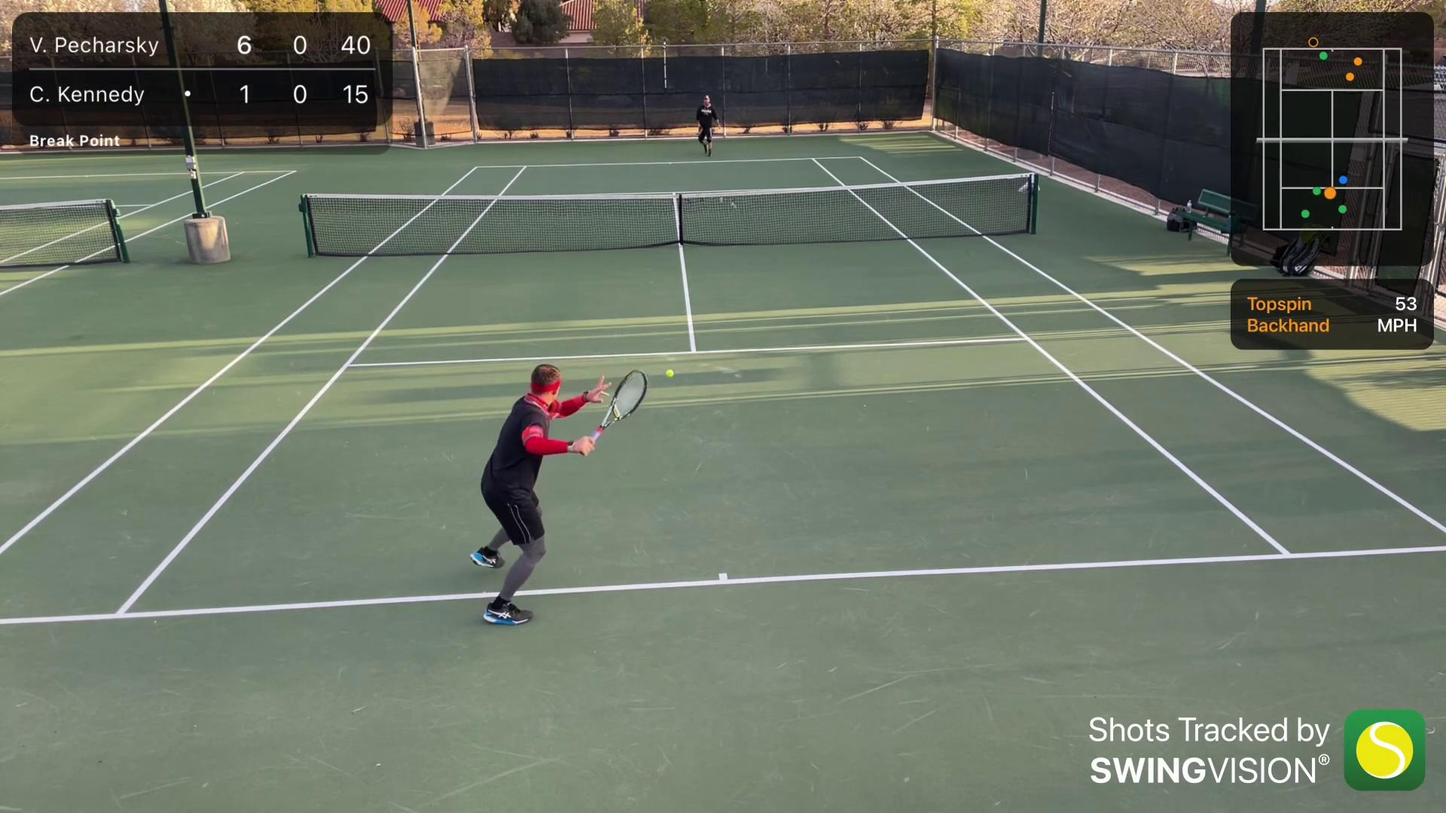ball: (664, 368, 675, 381)
